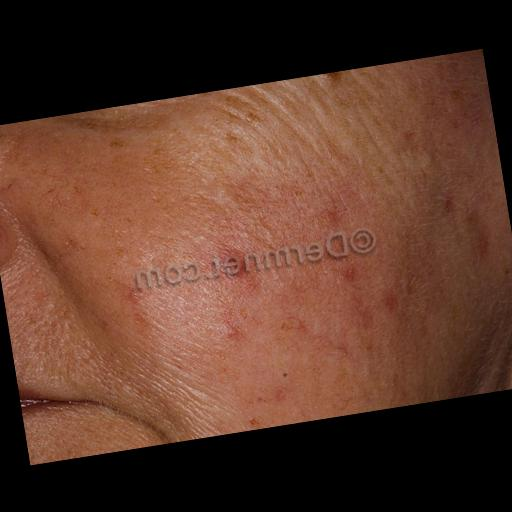Skin_Lesion: (214, 244, 261, 288), (74, 106, 111, 134), (468, 228, 496, 264), (431, 186, 459, 220), (220, 314, 247, 346), (376, 282, 400, 314), (322, 194, 348, 222), (339, 265, 362, 288), (497, 254, 512, 282), (321, 70, 345, 86), (244, 412, 261, 428), (191, 90, 209, 100)
